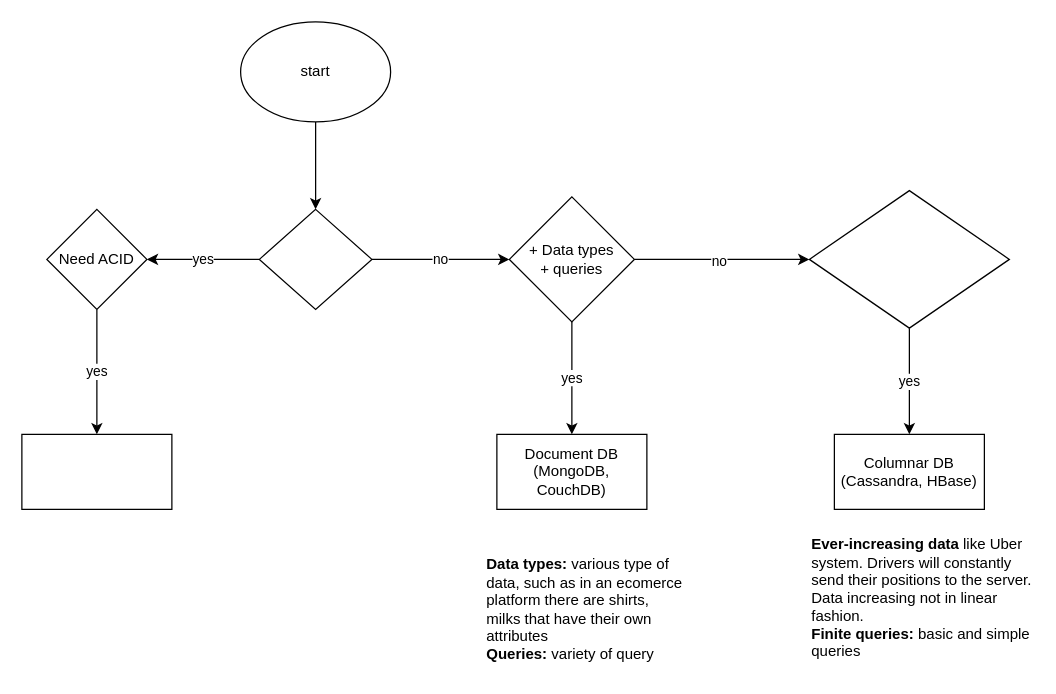
The diagram is 1056 pixels wide and 694 high, and some of its shapes have lost their labels. Each missing label, with the centre of its shape:
"+ Ever-increasing data + Finite queries" goes at (x=908, y=258).
"RDBMS" goes at (x=96, y=471).
"structured data" goes at (x=315, y=258).
